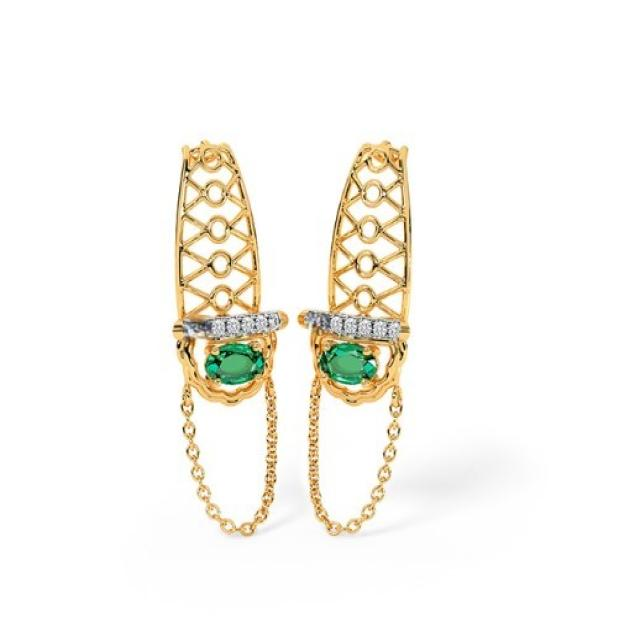missing gem: (305, 312, 334, 334), (184, 320, 211, 337)
